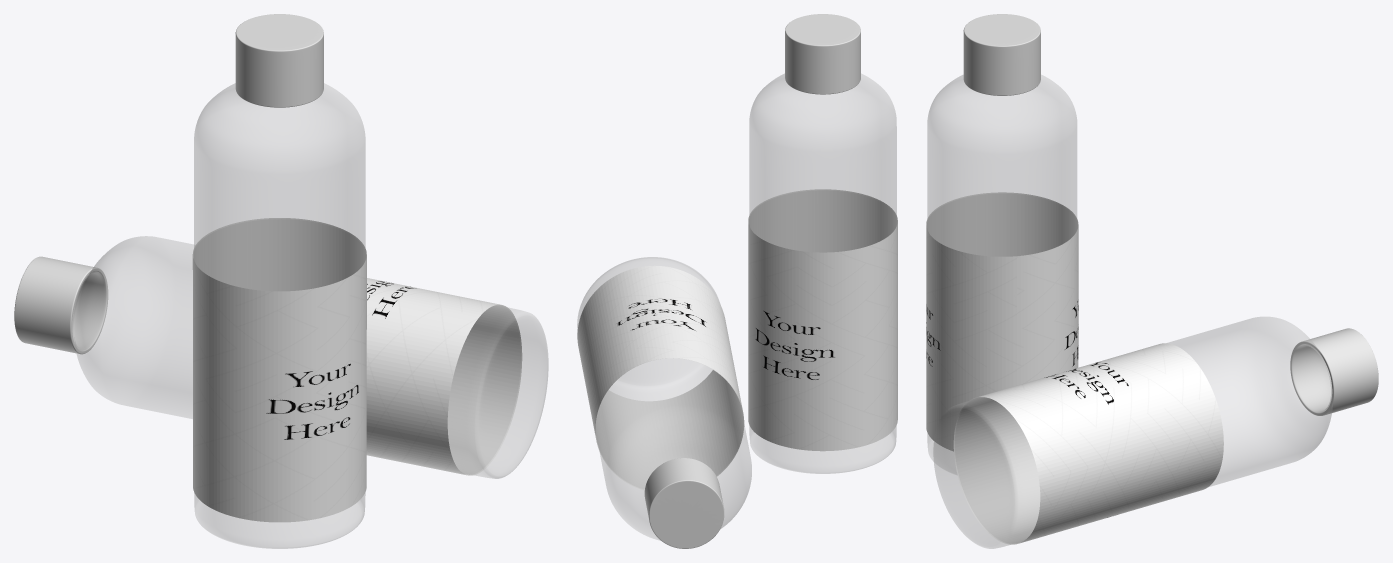
The model's file is Glass_Bottle-A2.glb.
3 views of the same model, side by side, from view 1: azimuth 30°, elevation 25°; view 2: azimuth 150°, elevation 25°; view 3: azimuth 270°, elevation 25° (orthographic). The views are drawn at different scales.
Parts seen in each view (by area): view 1: Circle.007, Circle.006, Circle.004, Circle.005, Circle.008, Circle.001, Circle.002, Circle.003; view 2: Circle.007, Circle.006, Circle.004, Circle.005, Circle.001, Circle.008, Circle.003, Circle.002; view 3: Circle.005, Circle.004, Circle.006, Circle.007, Circle.001, Circle.008, Circle.003, Circle.002.
Boxes of the visible parts, <box> form: Circle.007: <box>192,218,366,522</box>; Circle.006: <box>194,83,365,548</box>; Circle.004: <box>72,236,548,478</box>; Circle.005: <box>366,278,522,475</box>; Circle.008: <box>193,219,365,291</box>; Circle.001: <box>447,304,520,474</box>; Circle.002: <box>235,14,323,107</box>; Circle.003: <box>14,256,108,354</box>; Circle.007: <box>748,189,897,451</box>; Circle.006: <box>749,73,896,473</box>; Circle.004: <box>577,257,751,540</box>; Circle.005: <box>577,265,744,490</box>; Circle.001: <box>595,358,743,489</box>; Circle.008: <box>749,190,897,252</box>; Circle.003: <box>644,458,724,548</box>; Circle.002: <box>785,14,860,94</box>; Circle.005: <box>953,343,1223,544</box>; Circle.004: <box>933,317,1332,548</box>; Circle.006: <box>927,75,1076,474</box>; Circle.007: <box>926,192,1078,451</box>; Circle.001: <box>955,397,1040,543</box>; Circle.008: <box>926,193,1077,256</box>; Circle.003: <box>1290,328,1378,415</box>; Circle.002: <box>963,14,1040,95</box>.
Bounding box in the file's own units: 4.71 × 6.18 × 5.99.
Materials: 4 (1 with a texture image).
